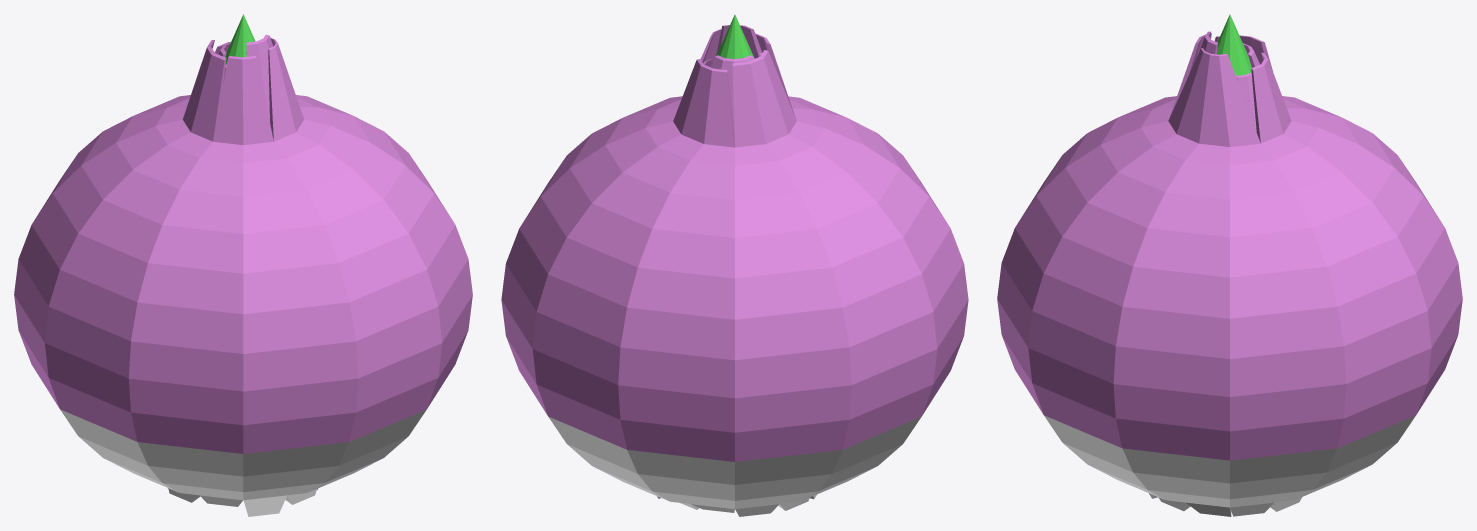
File: onion.fbx
The picture shows the model from 3 angles, left to right: view 1: azimuth 30°, elevation 25°; view 2: azimuth 150°, elevation 25°; view 3: azimuth 270°, elevation 25°; orthographic projection.
Parts seen in each view (by area): view 1: Sphere; view 2: Sphere; view 3: Sphere.
Part boxes in pixels (bbox=[...]): Sphere: bbox=[14, 14, 472, 516]; Sphere: bbox=[501, 14, 968, 516]; Sphere: bbox=[997, 14, 1462, 516].
Bounding box in the file's own units: 200 × 224 × 200.
